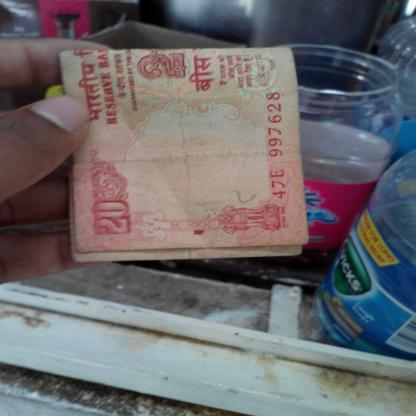Old20Front: (66, 50, 294, 250)
